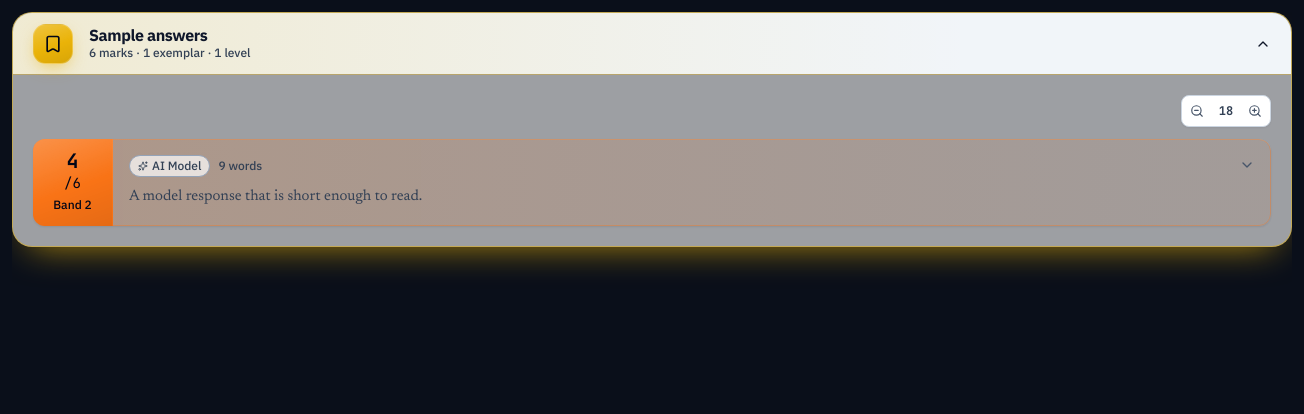
an open row: the picker, the page, then the actions › does not repeat the guide’s criterion in the row: the paper’s head jumps to it instead
Click the button that starts with "AI Model". click: (180, 166)
box: [113,139,1271,226]
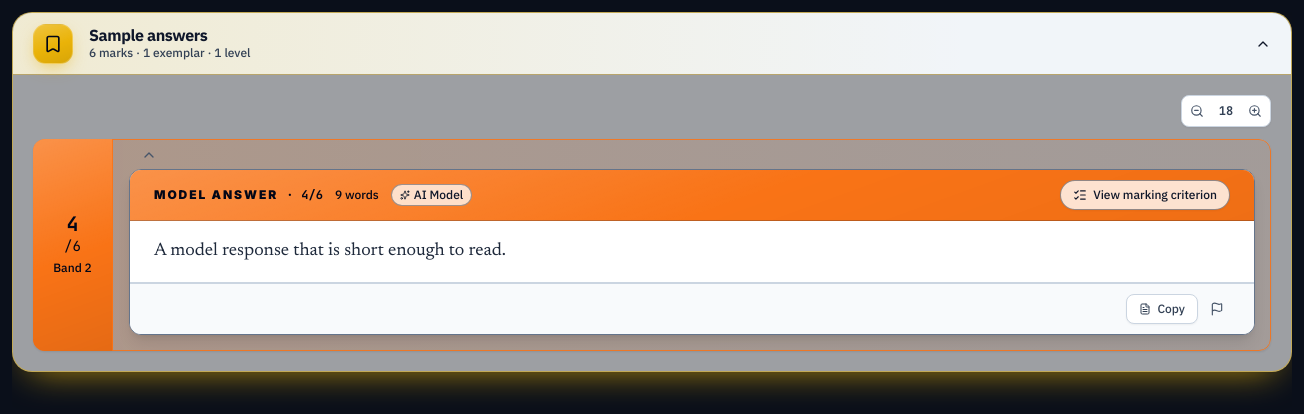
Result: the button with aria-label "View marking criterion for 4 marks" is shown at [1060,180,1230,210]
